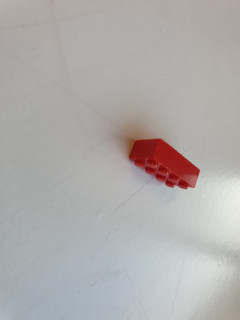2x4 red: (128, 138, 202, 194)
